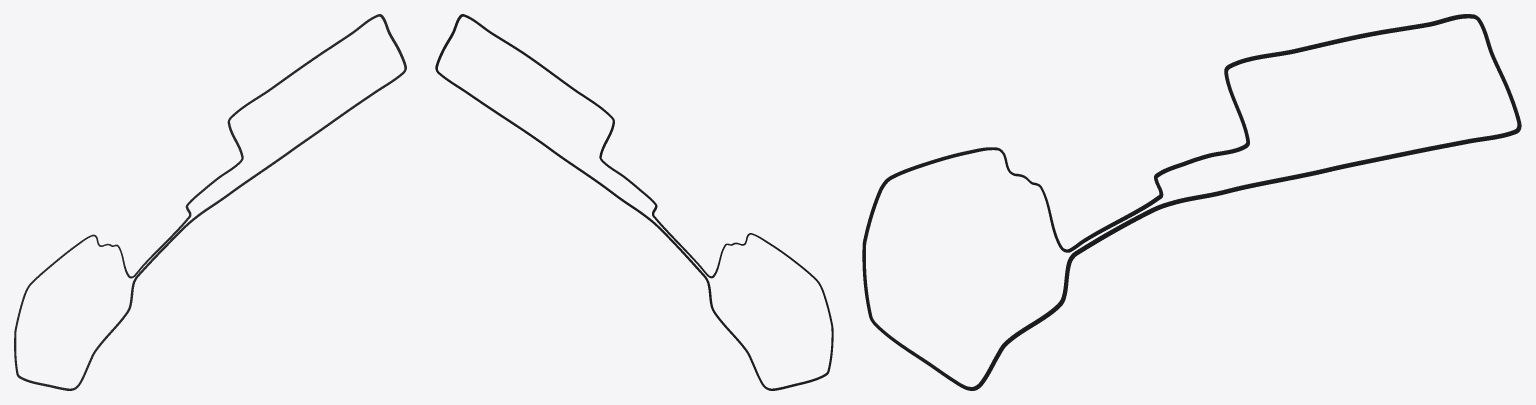
Rendered from road_textured.obj.
3 renders of one model, left to right at view 1: azimuth 30°, elevation 25°; view 2: azimuth 150°, elevation 25°; view 3: azimuth 330°, elevation 25°, orthographic. The views are drawn at different scales.
Parts seen in each view (by area): view 1: URRC; view 2: URRC; view 3: URRC.
Boxes of the visible parts, box(x1,y1,x2,y2) form: URRC: box(14, 14, 406, 390); URRC: box(435, 14, 833, 390); URRC: box(862, 14, 1521, 390).
Size of the model in its own units: 415 by 302 by 5.45.
1 material, 1 textured.
